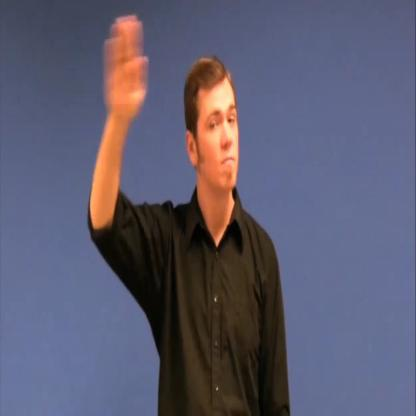Hello: (94, 11, 244, 245)
